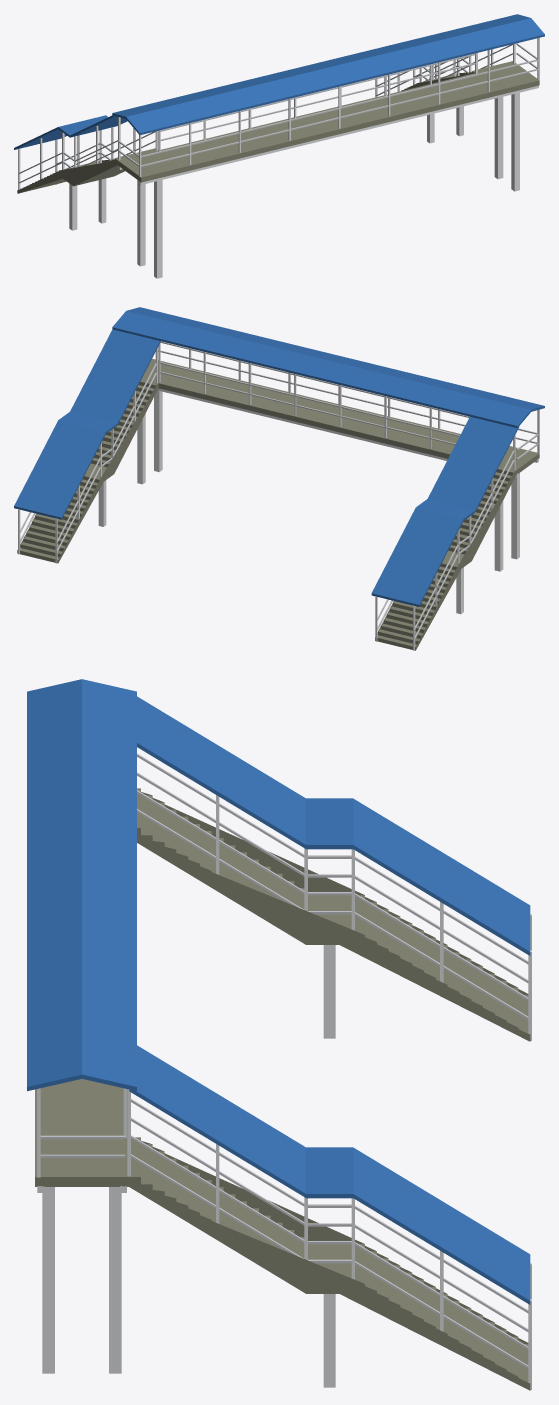
3 renders of one model, top to bottom at view 1: azimuth 30°, elevation 25°; view 2: azimuth 150°, elevation 25°; view 3: azimuth 270°, elevation 25°, orthographic. The views are drawn at different scales.
Parts seen in each view (by area): view 1: Footbridge_111; view 2: Footbridge_111; view 3: Footbridge_111.
Part boxes in pixels (x1=…): Footbridge_111: x1=14, y1=14, x2=544, y2=278; Footbridge_111: x1=14, y1=307, x2=544, y2=650; Footbridge_111: x1=27, y1=679, x2=531, y2=1390.
Bounding box in the file's own units: 23.8 × 8.97 × 12.84.
